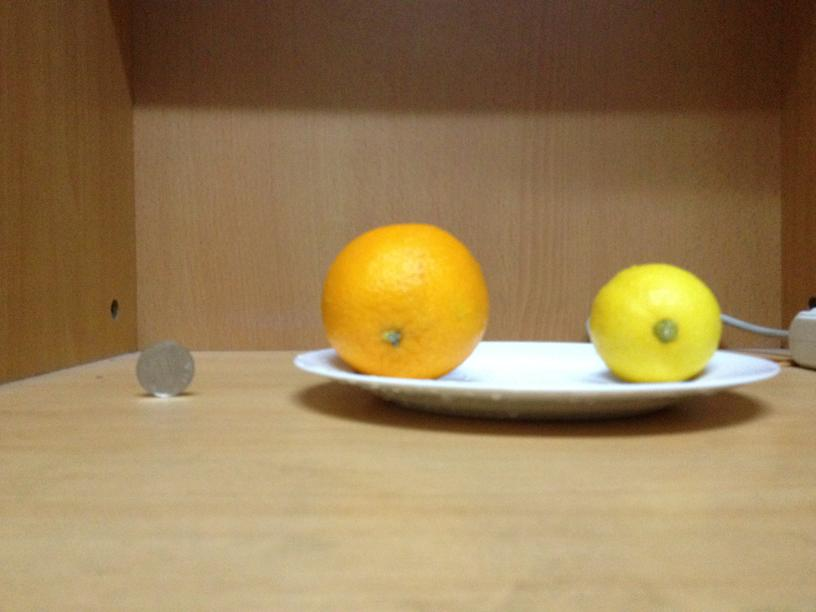coin: (134, 343, 194, 398)
lemon: (590, 259, 722, 382)
orange: (317, 224, 487, 379)
